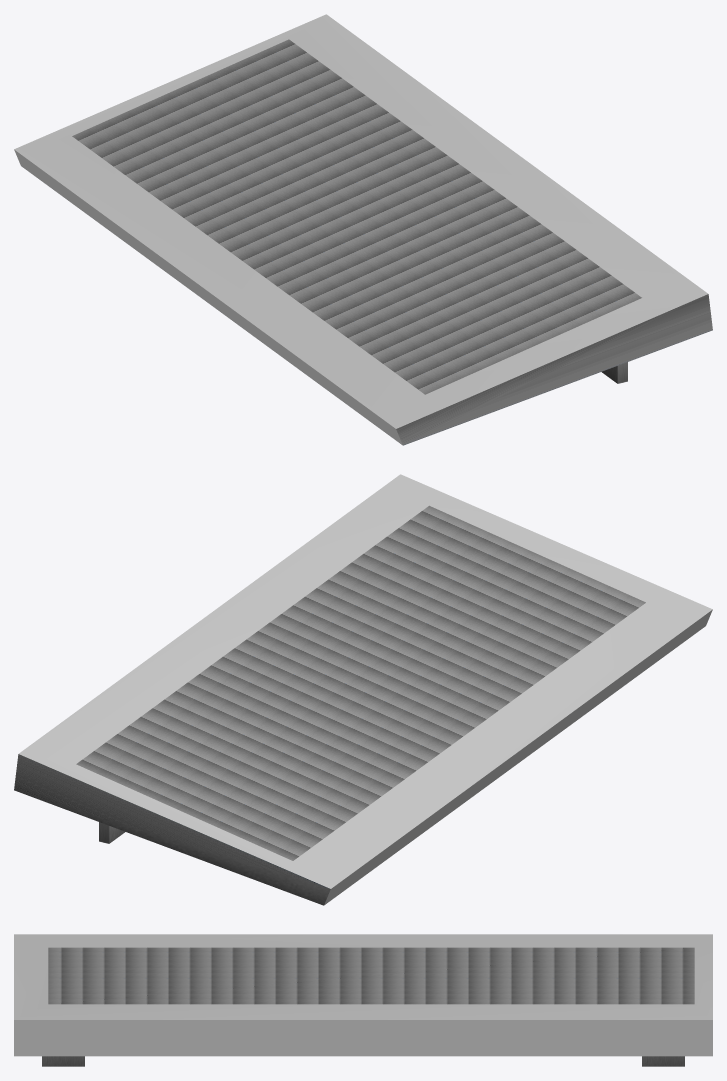
File: TecladoMac.FBX
3 renders of one model, top to bottom at view 1: azimuth 30°, elevation 25°; view 2: azimuth 150°, elevation 25°; view 3: azimuth 270°, elevation 25°, orthographic. The views are drawn at different scales.
Visible parts, largest first — view 1: Teclado; view 2: Teclado; view 3: Teclado, Pata2, Pata1.
Part boxes in pixels (x1,y1,x2,y2): Teclado: (14, 14, 712, 445); Teclado: (14, 474, 712, 905); Teclado: (14, 934, 712, 1056); Pata2: (42, 1056, 84, 1066); Pata1: (642, 1056, 684, 1066).
Bounding box in the file's own units: 6.15 × 1.54 × 12.84.
